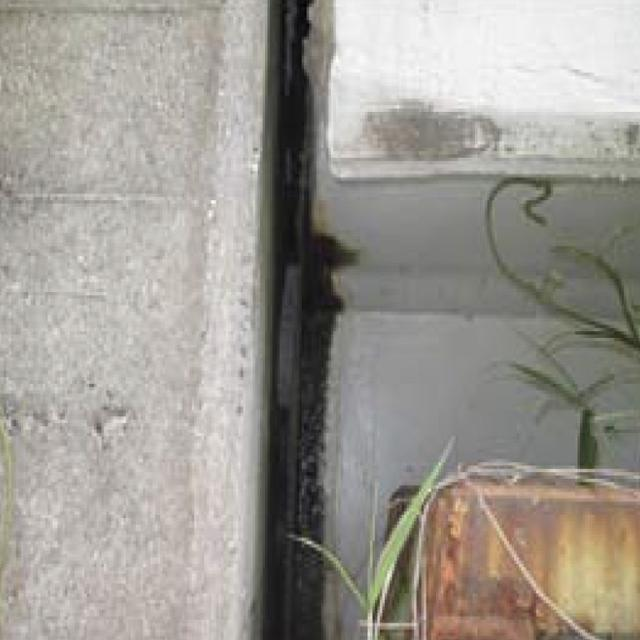leakage: (264, 227, 339, 633)
